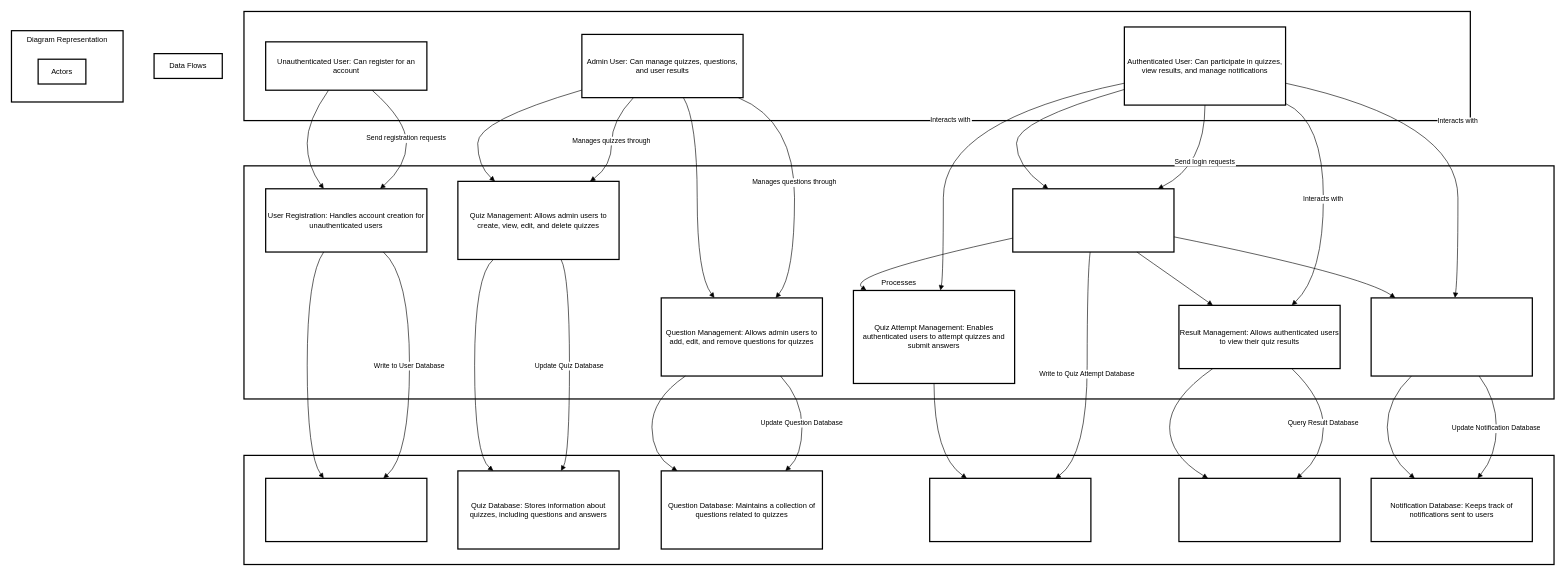
This 1565x575 diagram has some shape labels left out. The box of each missing label's shape, as (x1, y1, x2, y2) in pixels:
Data Stores: (243, 454, 1554, 565)
External Entities: (243, 11, 1471, 121)
Notification Management: Sends notifications to users about quizzes and results: (1370, 297, 1533, 376)
Quiz Attempt Database: Tracks attempts by users for different quizzes: (929, 477, 1091, 542)
Result Database: Stores results of quizzes for each user: (1178, 477, 1340, 542)
User Authentication: Handles login and logout for authenticated users: (1012, 188, 1174, 252)
User Database: Stores user profiles, credentials, and authentication tokens: (265, 477, 427, 542)
